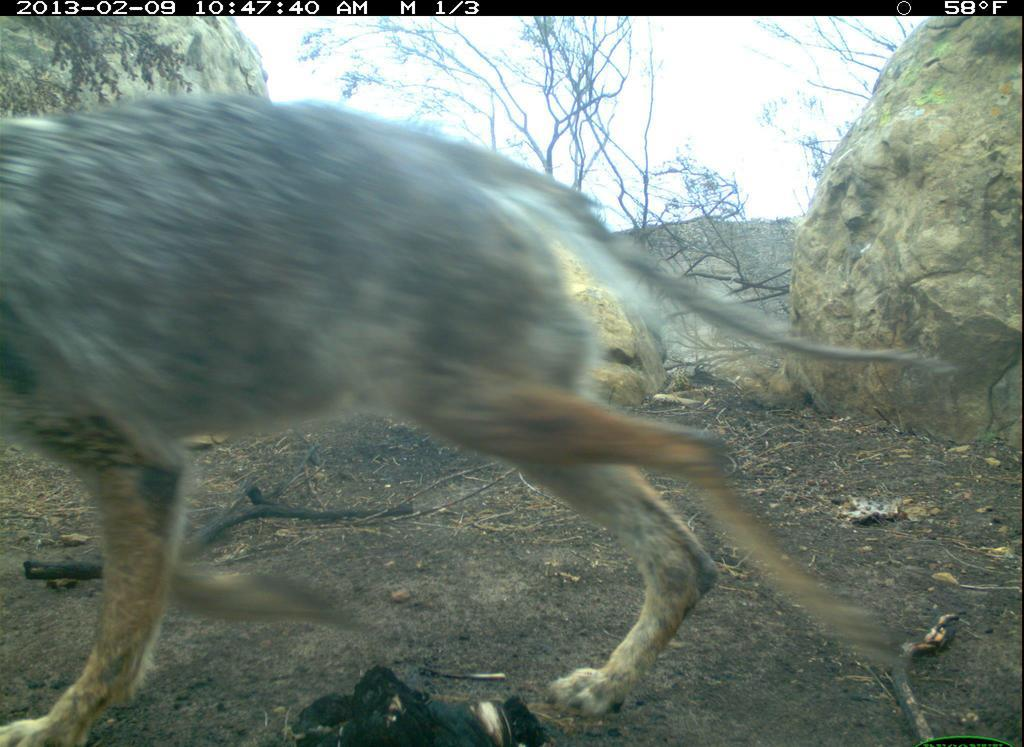coyote: (3, 85, 953, 728)
